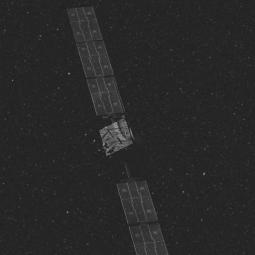smart_1: (74, 30, 162, 228)
